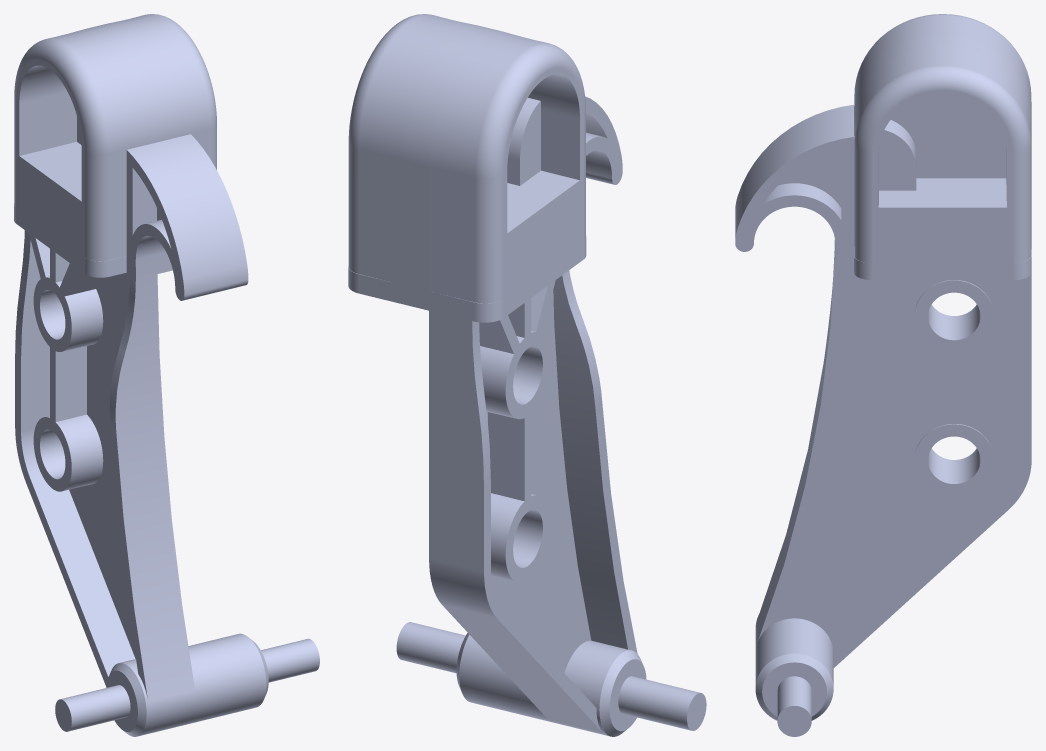
3 renders of one model, left to right at view 1: azimuth 30°, elevation 25°; view 2: azimuth 150°, elevation 25°; view 3: azimuth 270°, elevation 25°, orthographic. The views are drawn at different scales.
Visible parts, largest first — view 1: NAUO1, NAUO2; view 2: NAUO1, NAUO2; view 3: NAUO1, NAUO2.
Boxes of the visible parts, left/top/right/bottom form: NAUO1: left=14, top=134, right=319, bottom=736; NAUO2: left=14, top=14, right=216, bottom=261; NAUO1: left=348, top=96, right=706, bottom=736; NAUO2: left=348, top=14, right=585, bottom=303; NAUO1: left=735, top=104, right=1031, bottom=736; NAUO2: left=853, top=14, right=1031, bottom=263.
Size of the model in its own units: 0.0236 by 0.0577 by 0.0237.
